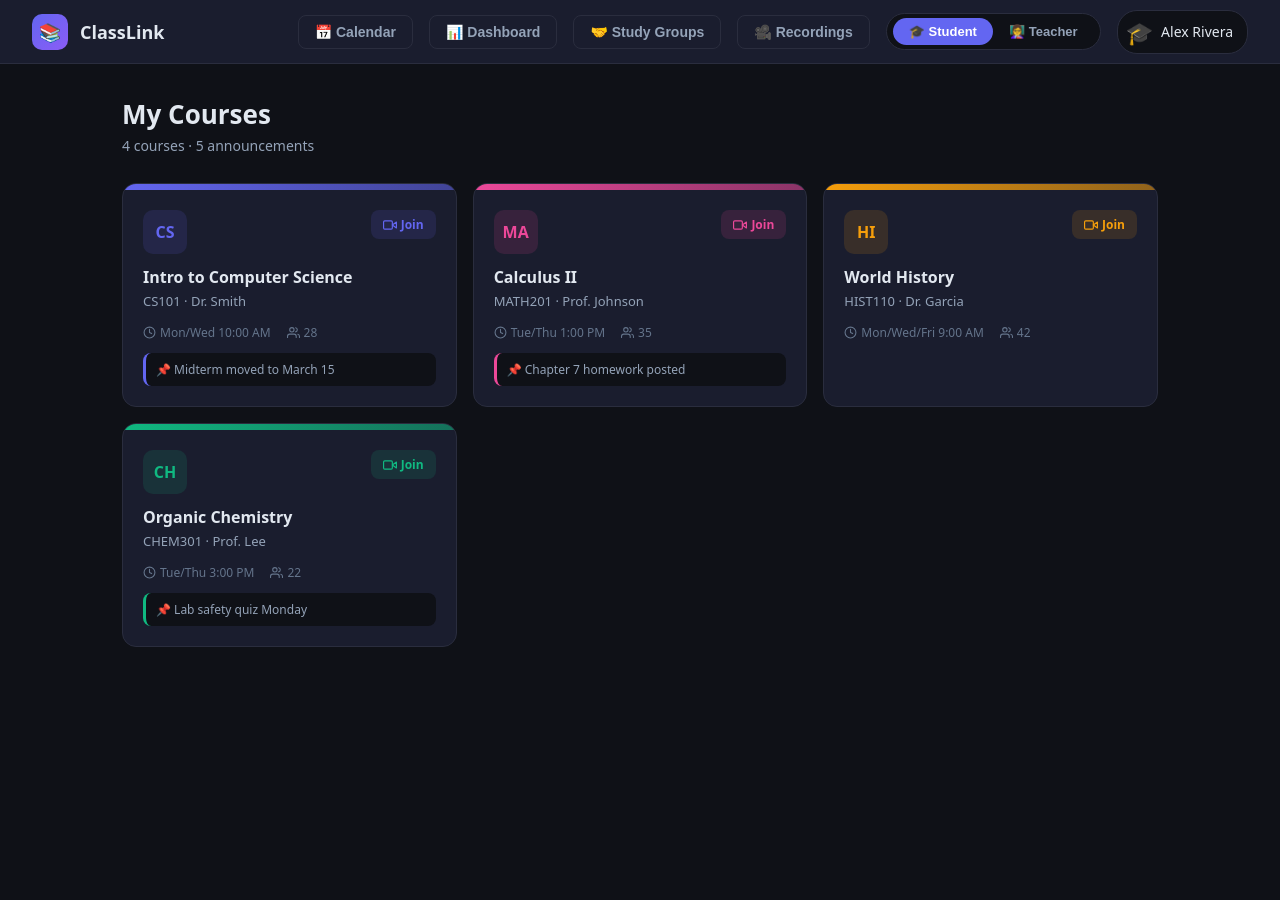
Test: App component › month navigation buttons update calendar display correctly (MonthNavigation component works)
// Navigate to calendar
Click the button "📅 Calendar". click: coordinates (355, 32)
box: [298,14,413,48]
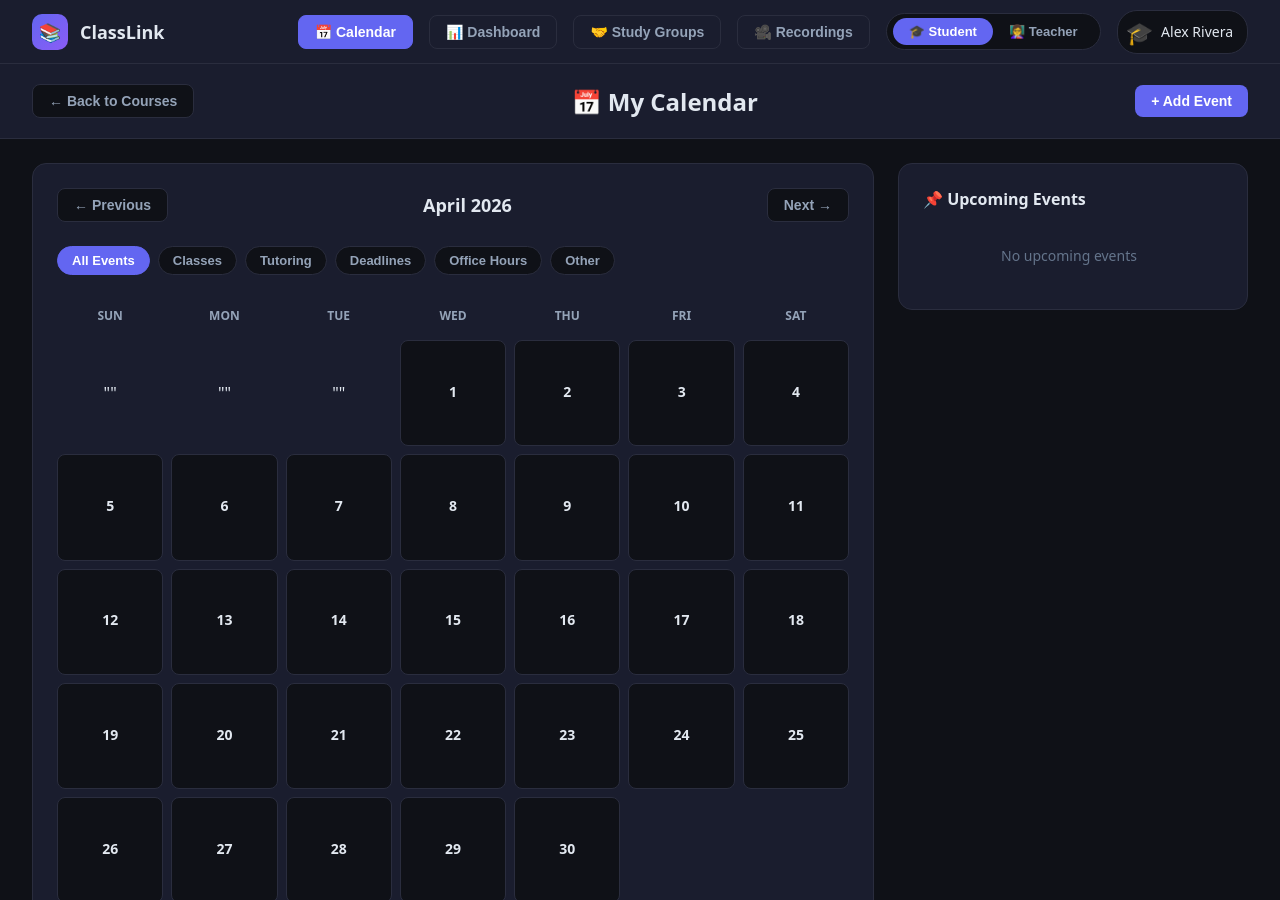
Result: the heading "April 2026" is shown at [423,193,512,217]
// Click next month button
Click the button "Next →". click: coordinates (808, 205)
box: [767,188,849,222]
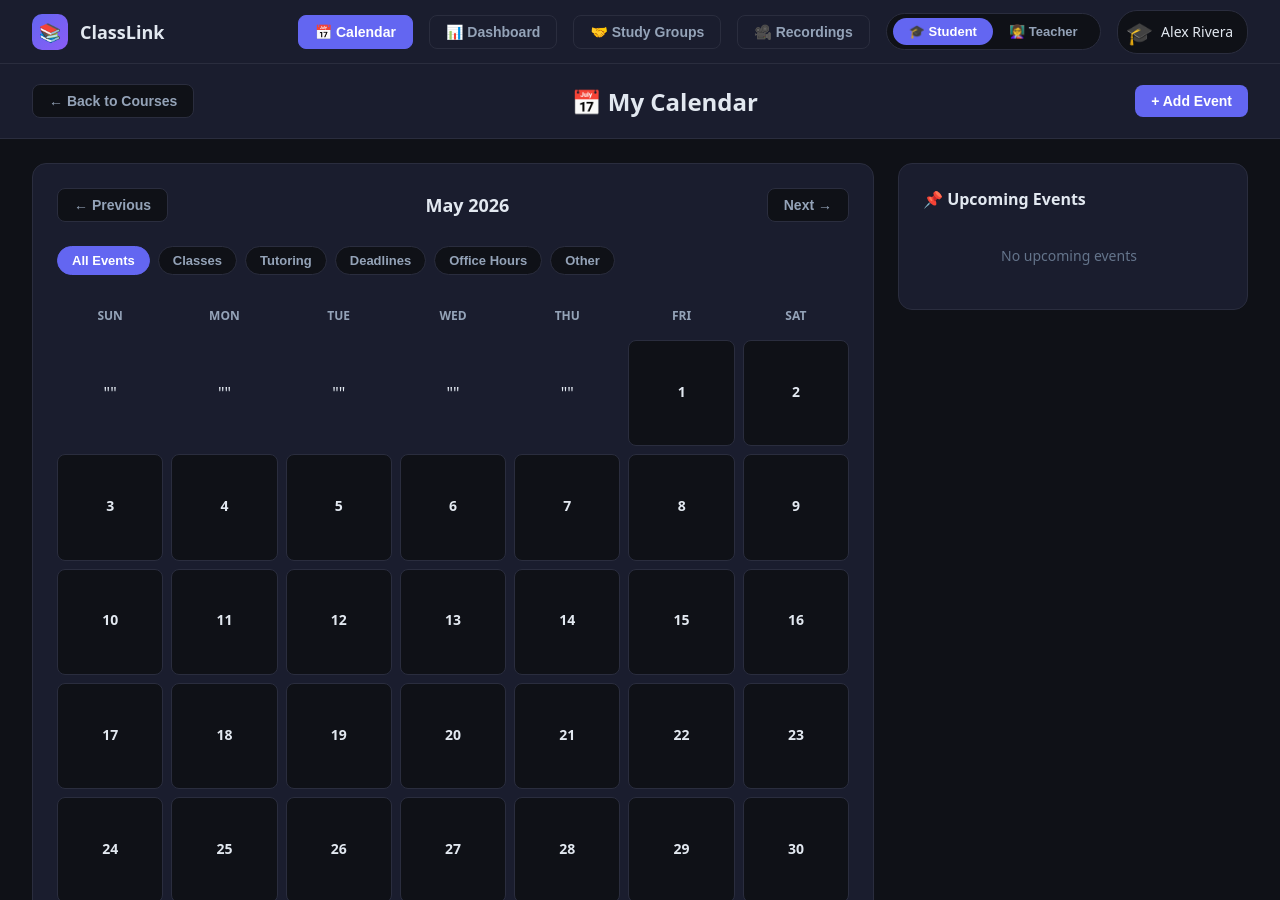
Result: the heading "May 2026" is shown at [425,193,509,217]
// Click next month button again
Click the button "Next →". click: coordinates (808, 205)
box: [767,188,849,222]
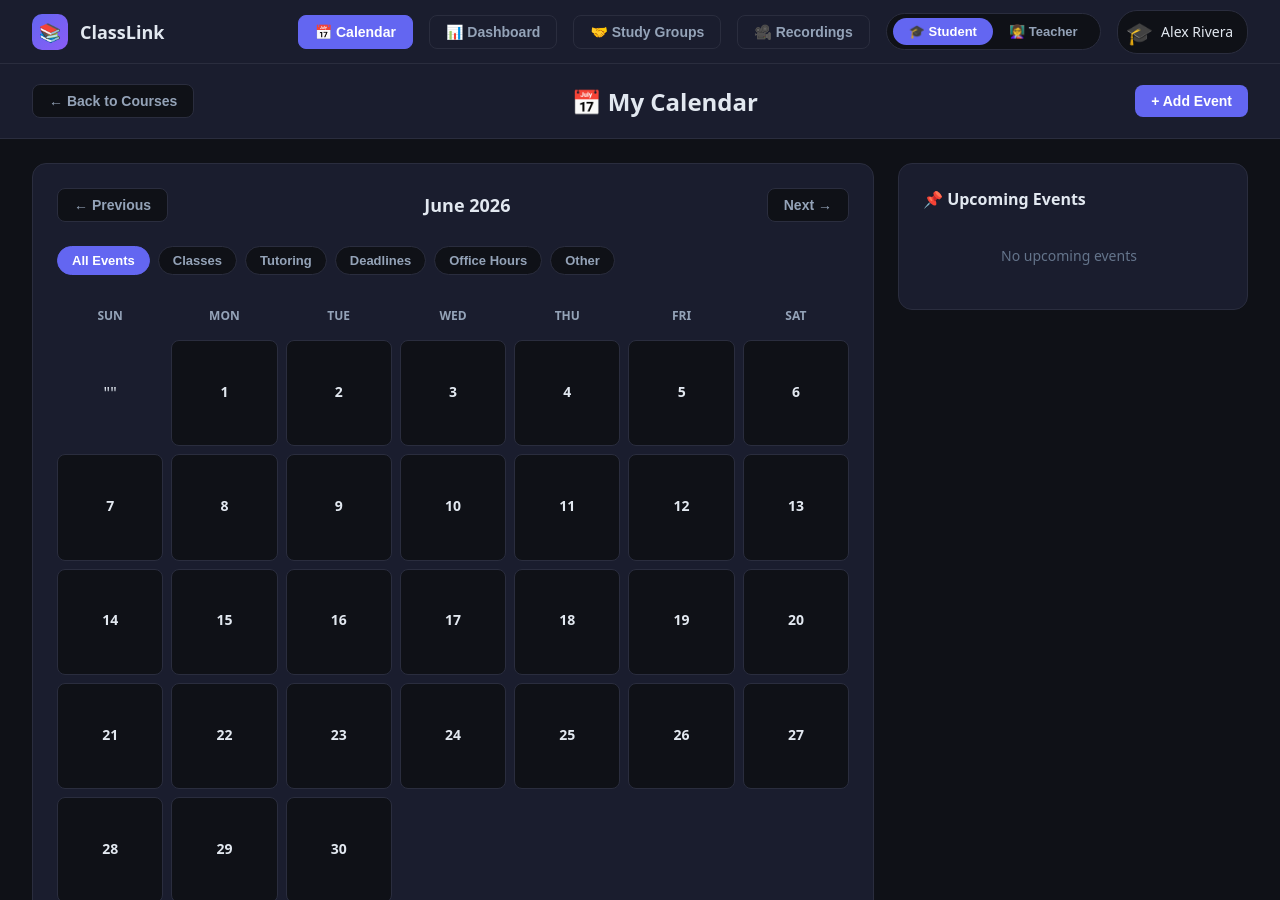
Result: the heading "June 2026" is shown at [424,193,510,217]
// Click previous month button
Click the button "← Previous". click: coordinates (112, 205)
box: [57,188,168,222]
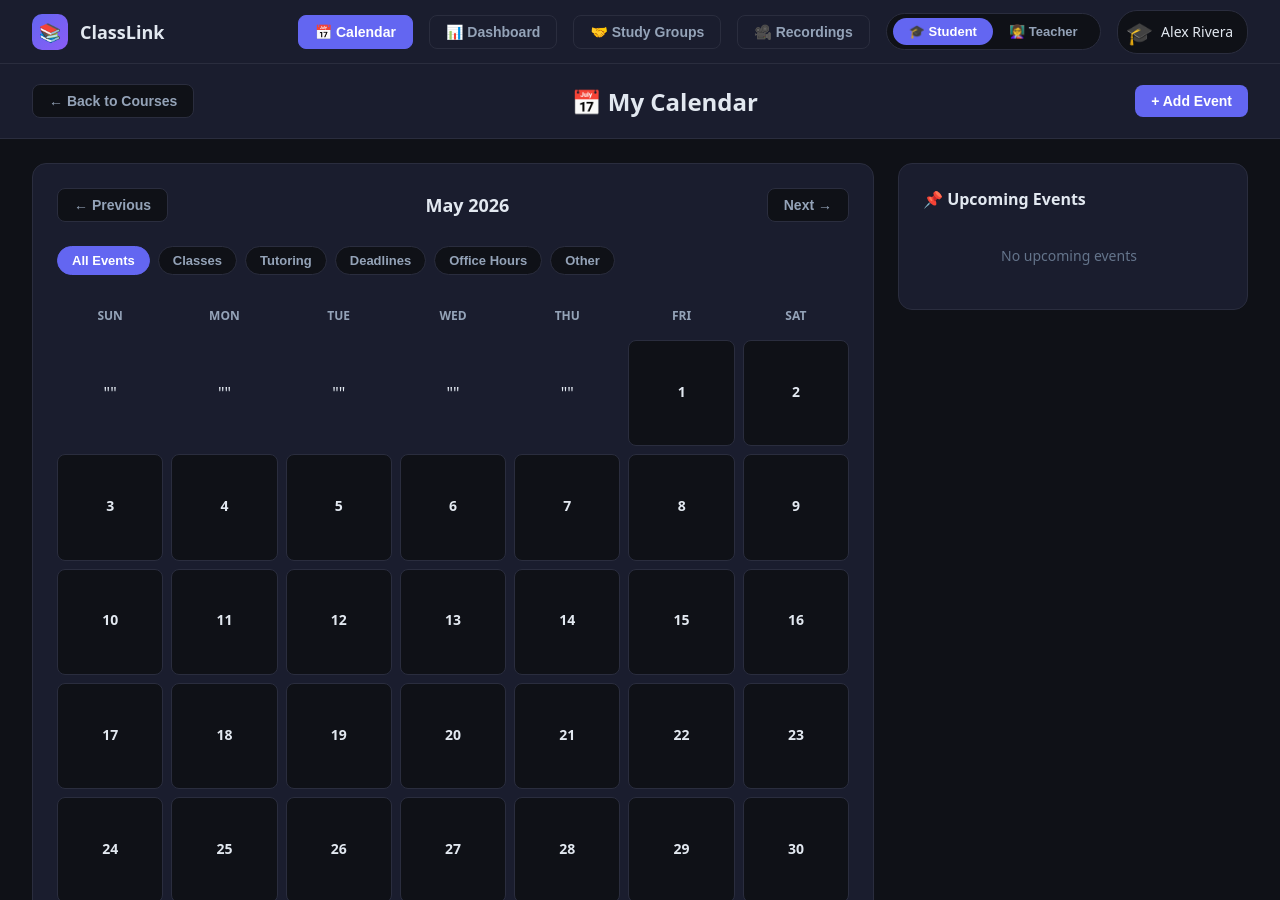
Result: the heading "May 2026" is shown at [425,193,509,217]
